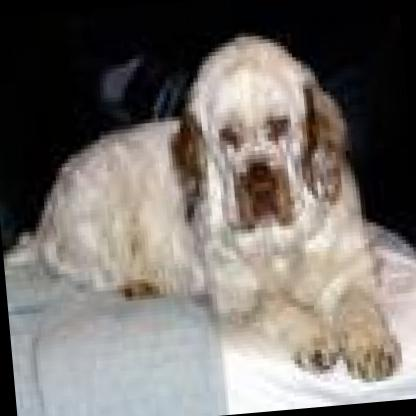clumber: (0, 18, 401, 416)
